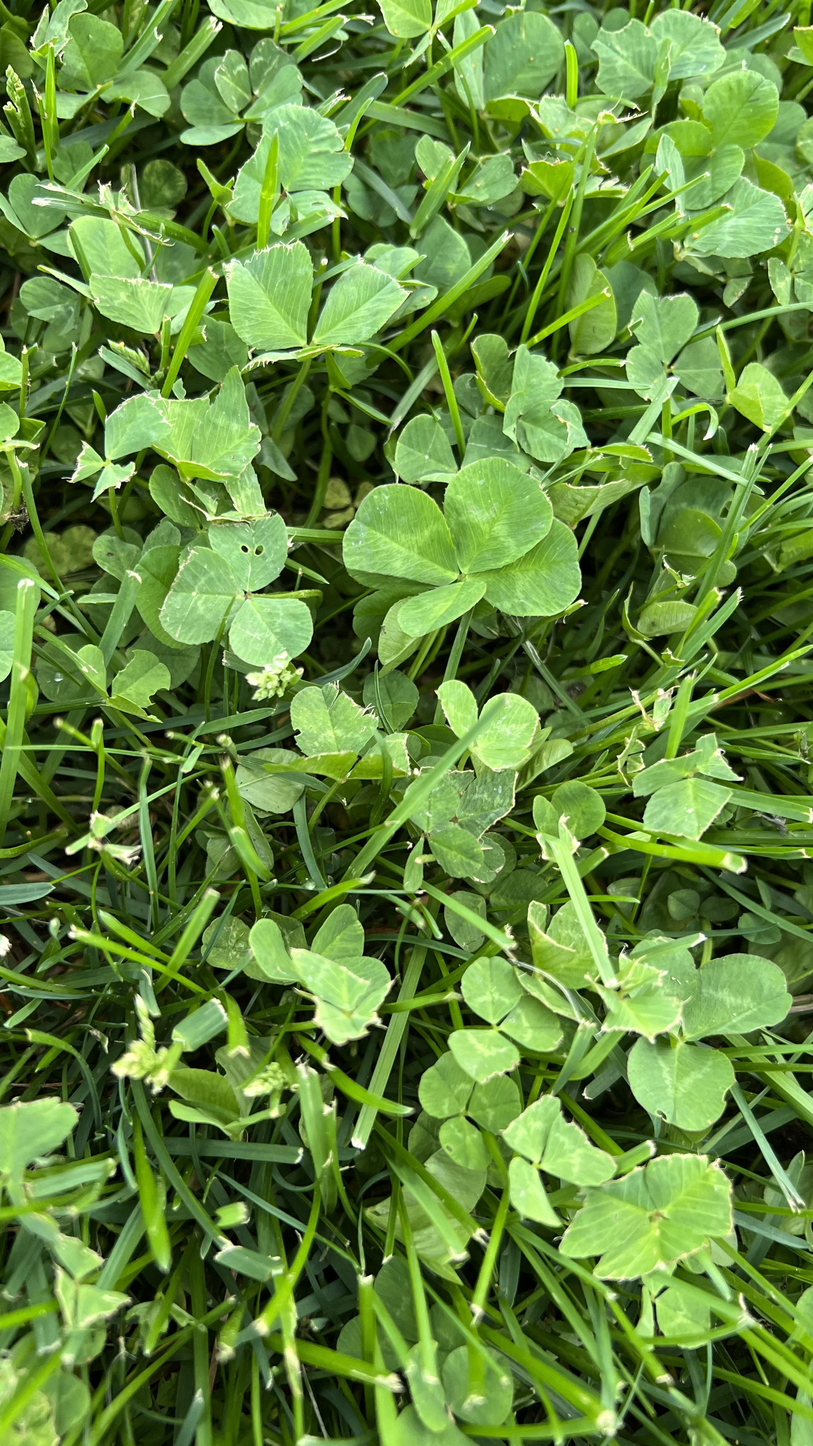4-Leaf-Clovers: (258, 419, 360, 818)
